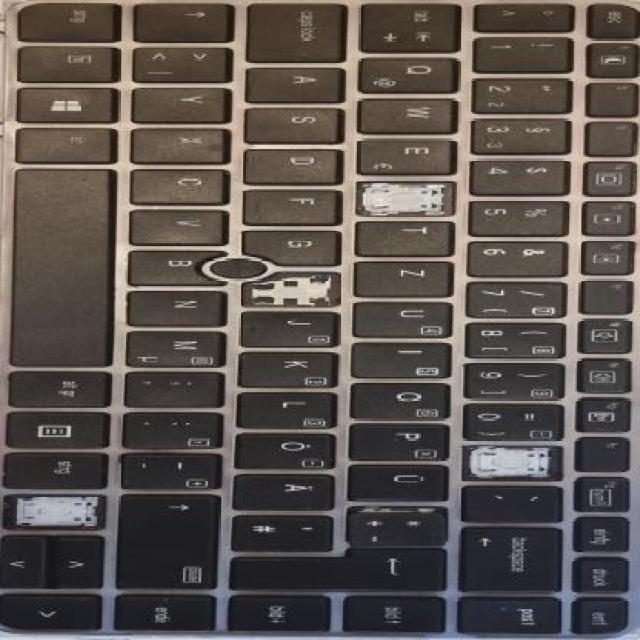Keyboard problems: (3, 495, 103, 528), (242, 272, 338, 306), (355, 182, 452, 215), (463, 446, 562, 478)
